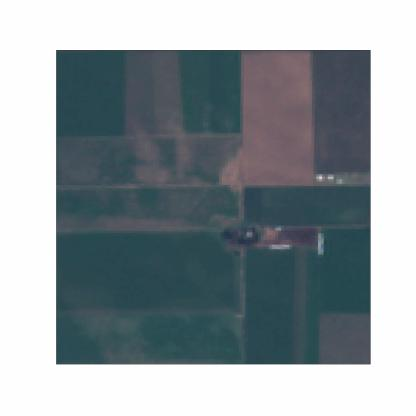silobolsa: (316, 229, 326, 256), (263, 245, 295, 250)
